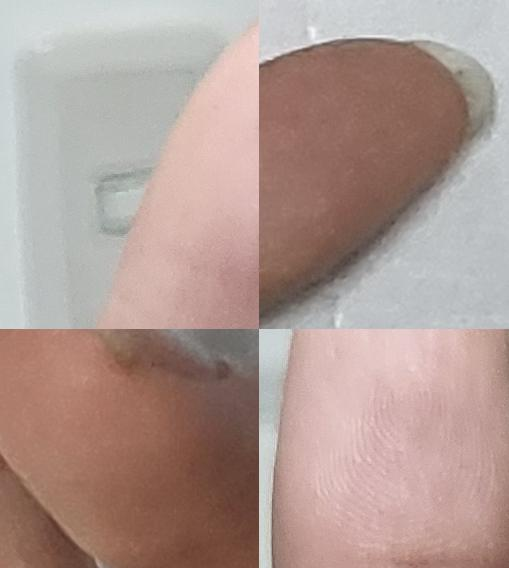Fingerprints: (259, 38, 467, 310), (272, 329, 509, 565), (96, 19, 259, 329)
